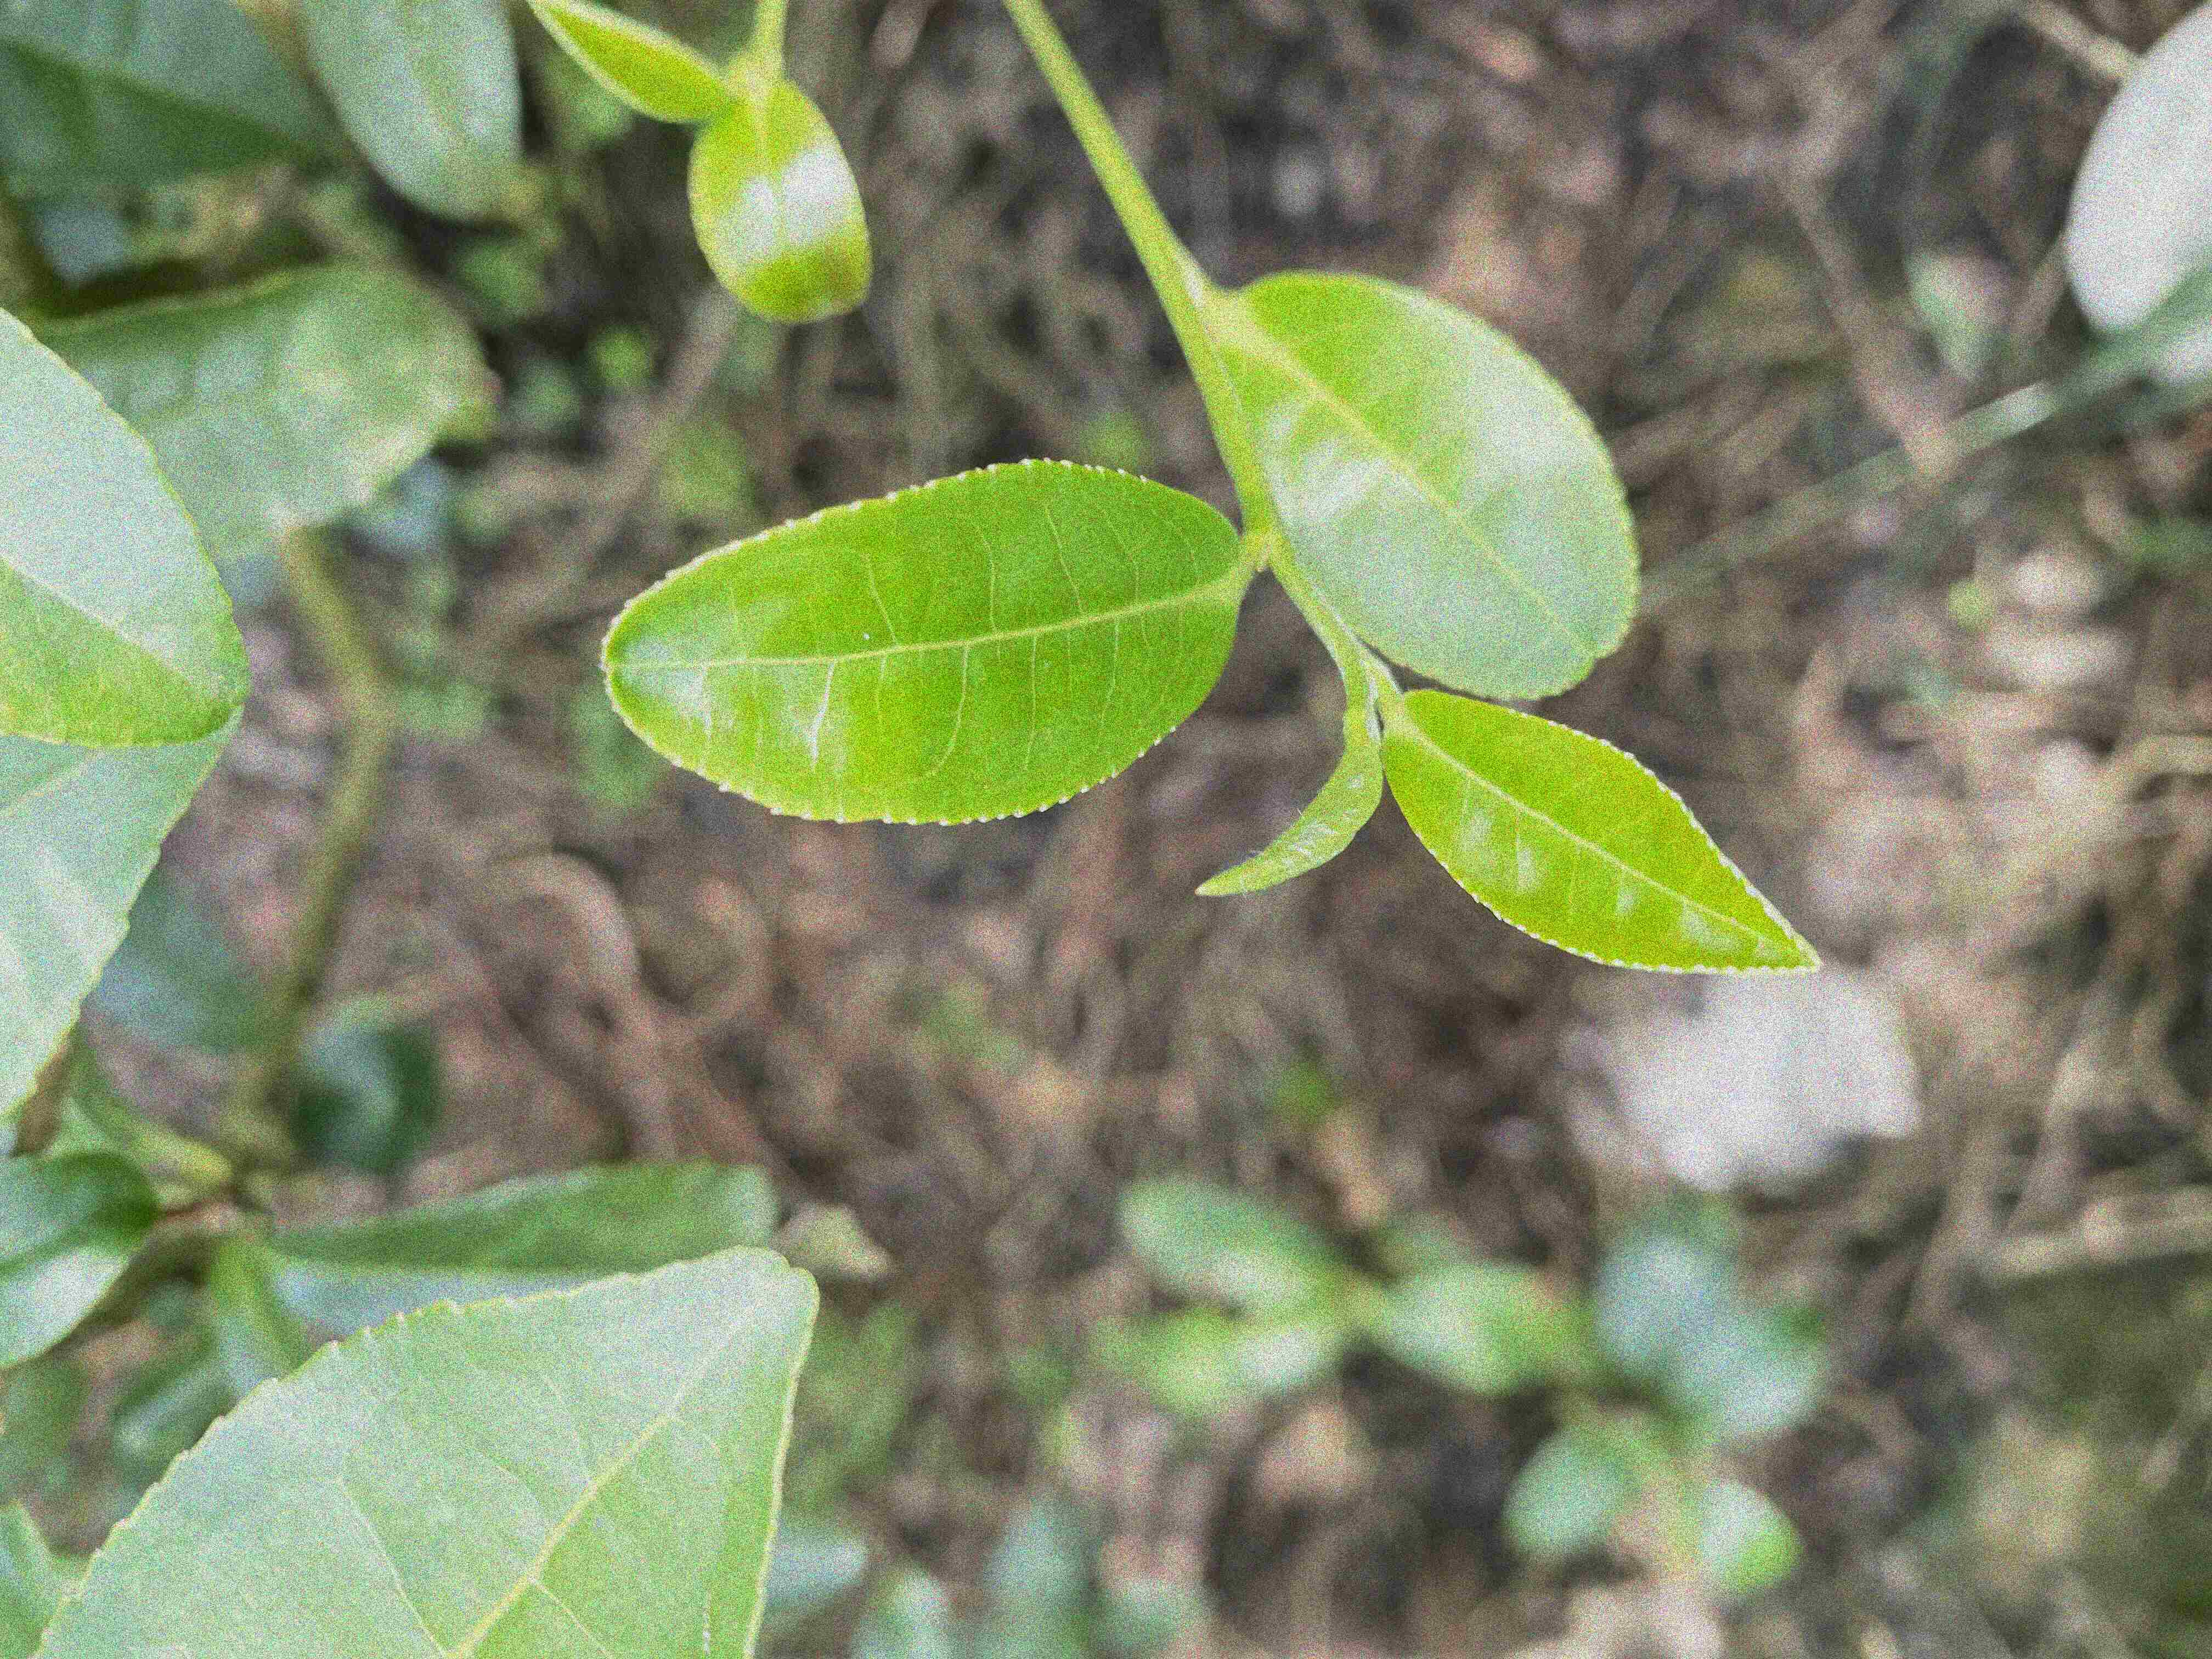healthy: (30, 1246, 819, 1656), (596, 455, 1247, 828), (1217, 268, 1639, 701), (1378, 687, 1827, 976), (2, 300, 253, 748)
